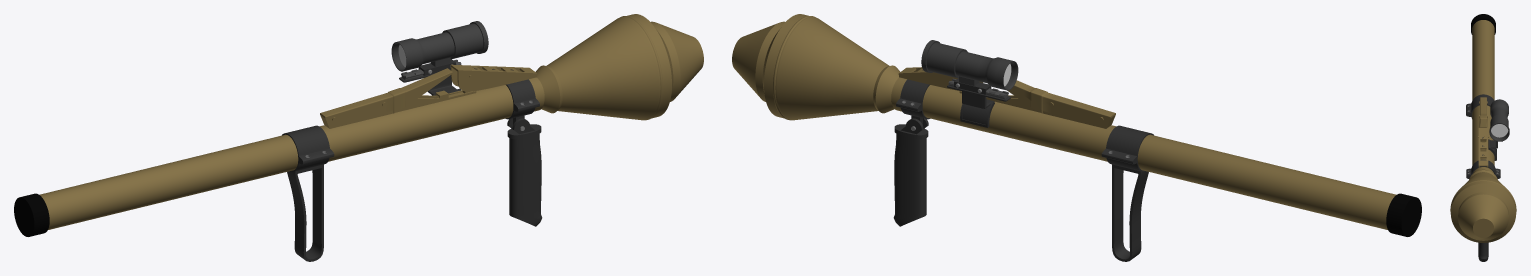
Rendered from Panzerfaust Modified.fbx.
3 renders of one model, left to right at view 1: azimuth 30°, elevation 25°; view 2: azimuth 150°, elevation 25°; view 3: azimuth 270°, elevation 25°, orthographic. The views are drawn at different scales.
Parts seen in each view (by area): view 1: Cylinder.008, Cylinder.001, Cylinder.002, Cylinder.015, Cylinder.007, Cube.008, Cylinder.006; view 2: Cylinder.008, Cylinder.001, Cylinder.002, Cylinder.015, Cylinder.007, Cylinder.006, Cube.008; view 3: Cylinder.001, Cylinder.008, Cylinder.007, Cylinder.002, Cube.008, Cylinder.015, Cylinder.006.
Boxes of the visible parts, x1,y1,x2,y2 form: Cylinder.008: (14,68,544,236); Cylinder.001: (536,14,703,120); Cylinder.002: (505,79,542,226); Cylinder.015: (282,125,334,261); Cylinder.007: (391,21,488,75); Cube.008: (450,64,537,91); Cylinder.006: (399,59,461,95); Cylinder.008: (891,77,1421,236); Cylinder.001: (732,14,899,120); Cylinder.002: (893,79,930,226); Cylinder.015: (1101,125,1153,261); Cylinder.007: (921,40,1018,94); Cylinder.006: (947,78,1010,127); Cube.008: (898,67,983,90); Cylinder.001: (1450,170,1516,242); Cylinder.008: (1471,14,1495,173); Cylinder.007: (1489,99,1509,141); Cylinder.002: (1466,159,1500,261); Cube.008: (1478,128,1488,167); Cylinder.015: (1466,94,1494,118); Cylinder.006: (1488,139,1502,160).
Bounding box in the file's own units: 1412 × 410 × 195.
